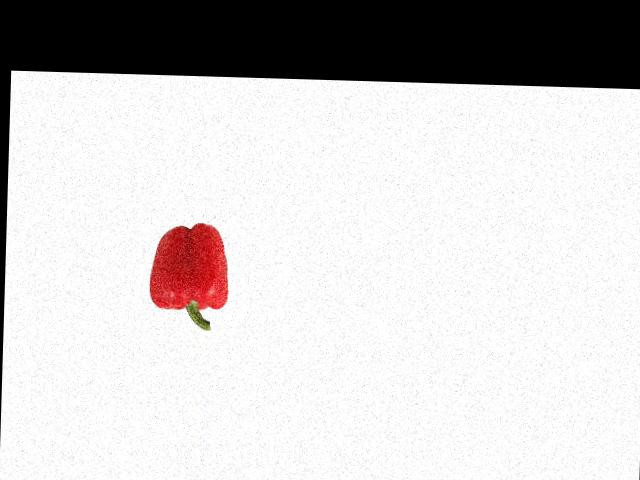bell_pepper: (137, 220, 233, 330)
